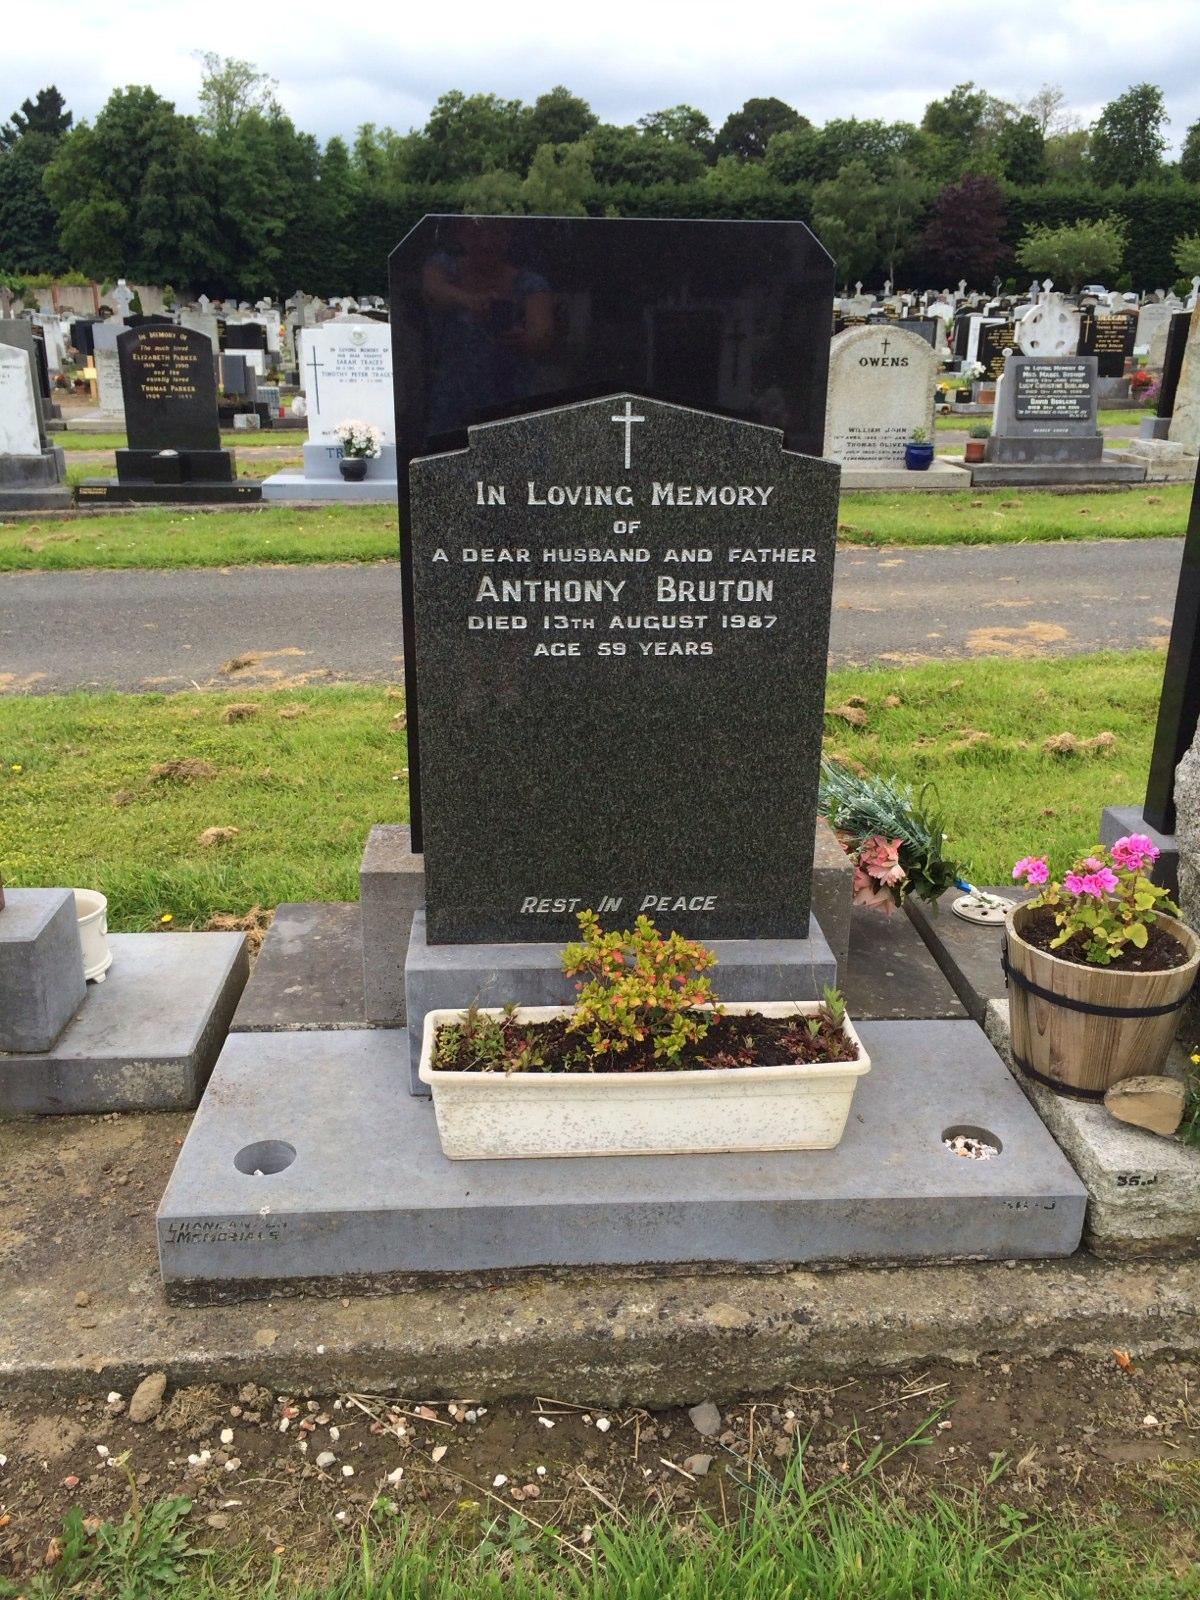upright: (378, 197, 853, 991)
